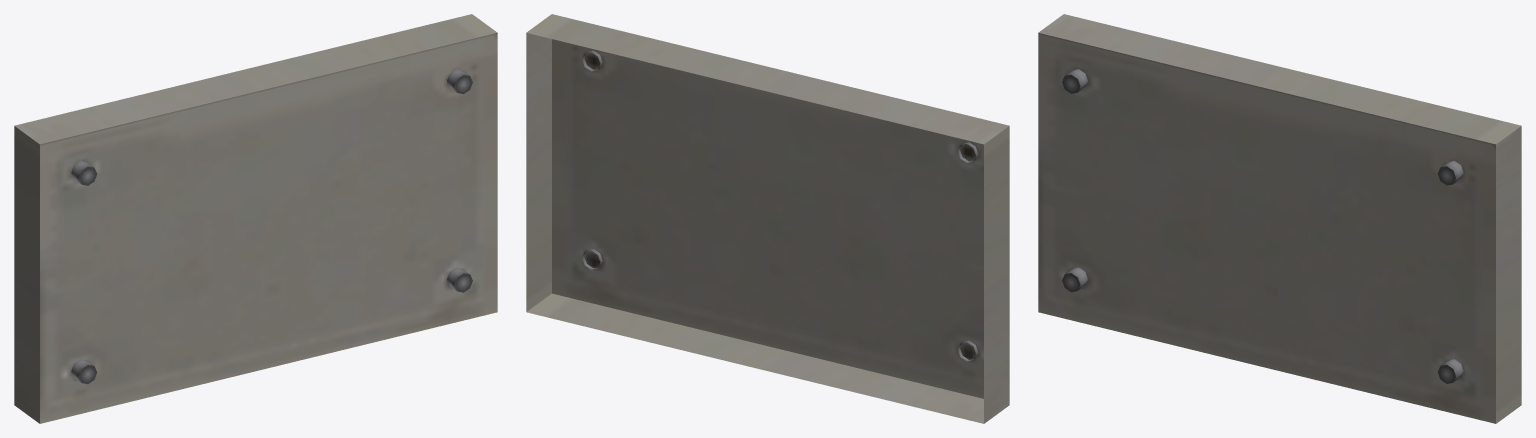
Rendered from ny_harbor_slava_interior_props_console_02_lod0.glb.
The picture shows the model from 3 angles, left to right: view 1: azimuth 30°, elevation 25°; view 2: azimuth 150°, elevation 25°; view 3: azimuth 330°, elevation 25°; orthographic projection.
Visible parts, largest first — view 1: surf0; view 2: surf0; view 3: surf0.
Part boxes in pixels (box(x1,y1,x2,y2)): surf0: box(14, 14, 497, 423); surf0: box(526, 14, 1009, 423); surf0: box(1038, 14, 1521, 423).
Bounding box in the file's own units: 17.05 × 9.95 × 2.14.
